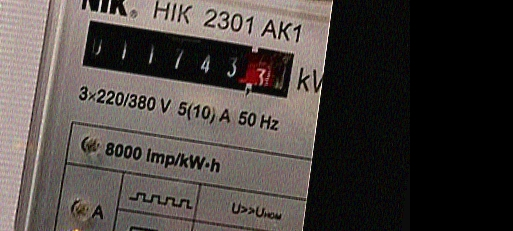0: (89, 29, 106, 58)
1: (143, 37, 160, 67), (116, 33, 133, 62)
3: (223, 52, 241, 80), (251, 66, 269, 88)
4: (198, 50, 215, 76)
7: (170, 44, 187, 70)
screen: (73, 14, 306, 107)
